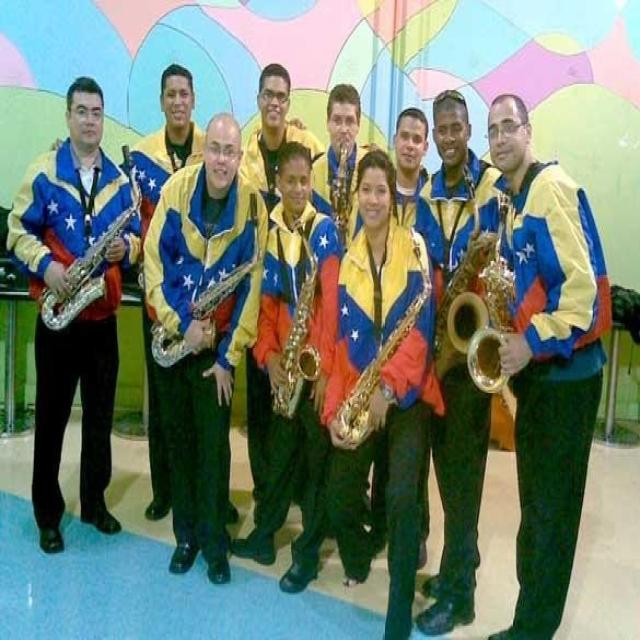saxophone: (326, 229, 434, 454), (149, 192, 264, 374), (38, 147, 144, 330), (268, 215, 322, 422), (433, 160, 490, 356), (475, 188, 521, 402)
